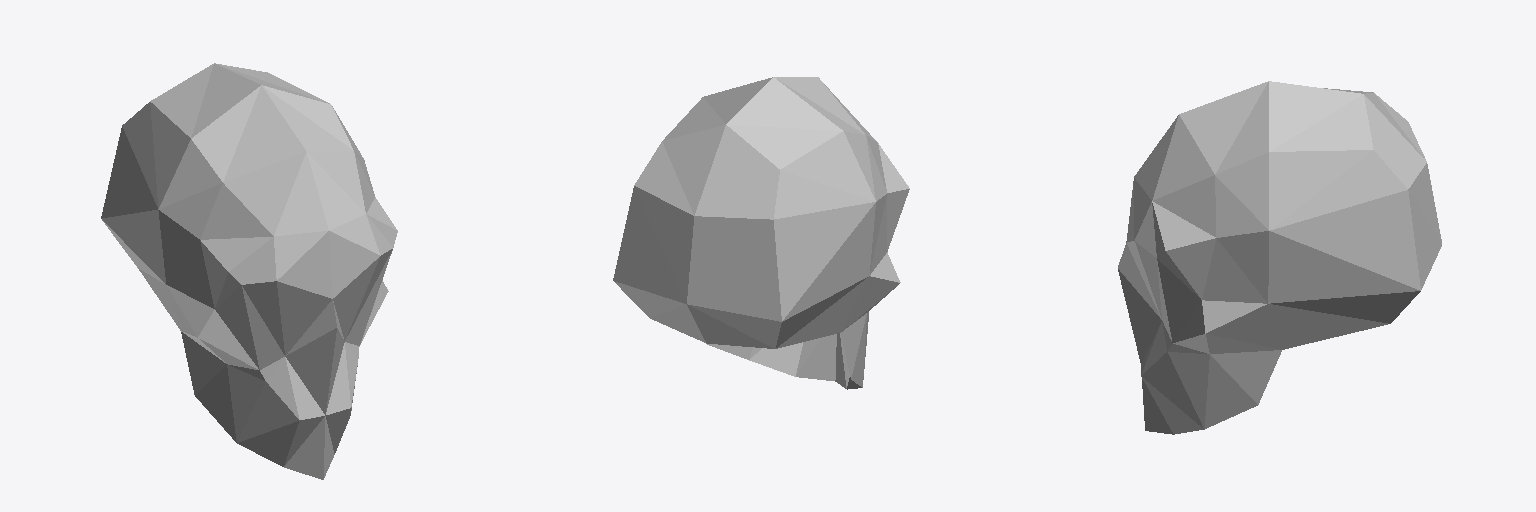
File: psx_skull.obj
3 views of the same model, side by side, from view 1: azimuth 30°, elevation 25°; view 2: azimuth 150°, elevation 25°; view 3: azimuth 270°, elevation 25° (orthographic).
Parts seen in each view (by area): view 1: Skull; view 2: Skull; view 3: Skull.
Part boxes in pixels (left/top/right/bottom): Skull: left=101, top=63, right=397, bottom=479; Skull: left=613, top=77, right=909, bottom=389; Skull: left=1118, top=81, right=1441, bottom=434.
Size of the model in its own units: 0.6029 by 0.9797 by 0.8247.